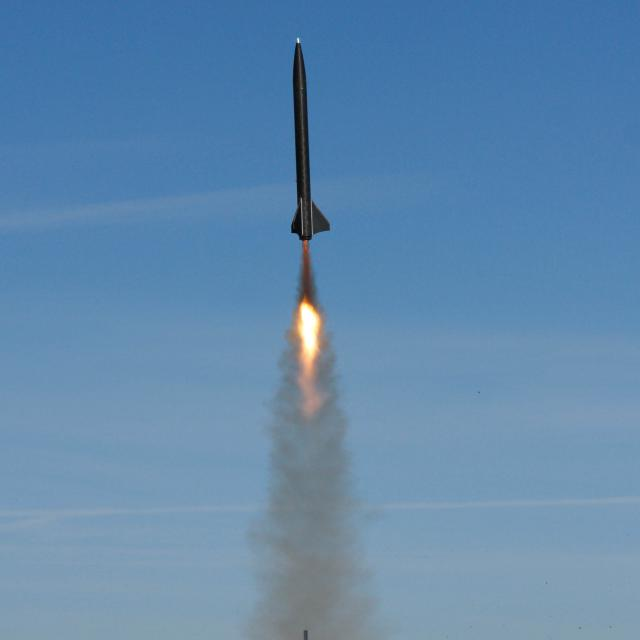Rocket: (289, 36, 332, 242)
